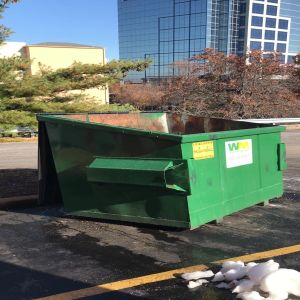Dumpster: (30, 110, 290, 235)
